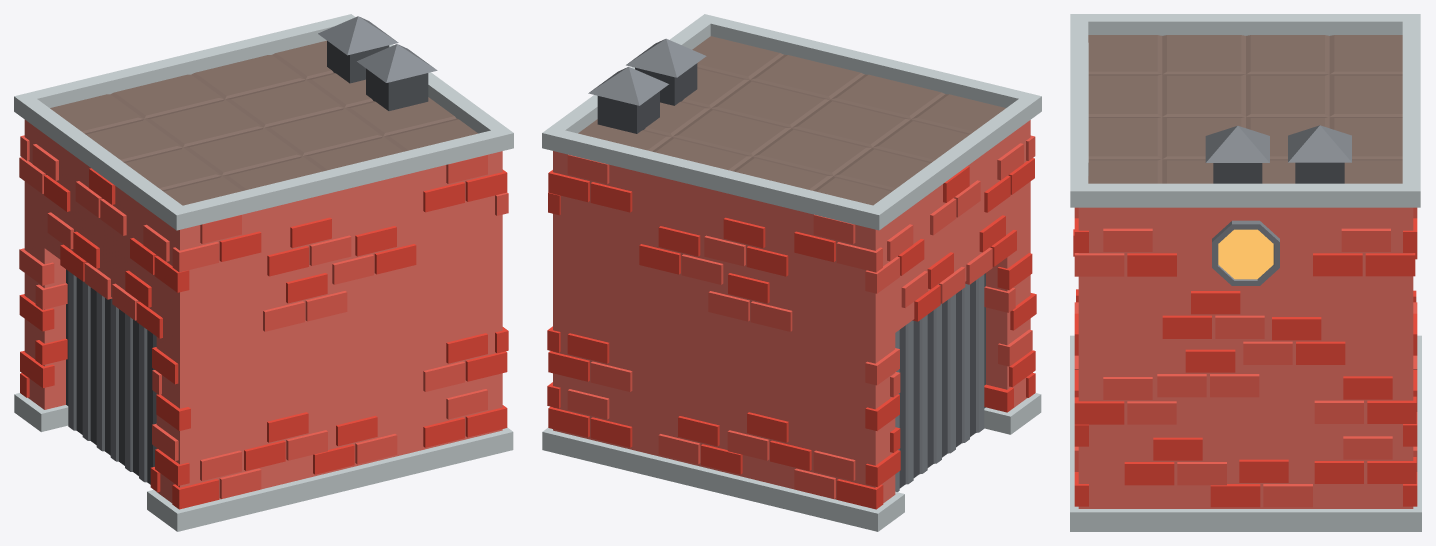
Rendered from SM_Garrage_3.fbx.
3 views of the same model, side by side, from view 1: azimuth 30°, elevation 25°; view 2: azimuth 150°, elevation 25°; view 3: azimuth 270°, elevation 25° (orthographic). The views are drawn at different scales.
Visible parts, largest first — view 1: SM_Garrage_3_LOD0; view 2: SM_Garrage_3_LOD0; view 3: SM_Garrage_3_LOD0.
Boxes of the visible parts, <box> form: SM_Garrage_3_LOD0: <box>14,14,513,531</box>; SM_Garrage_3_LOD0: <box>542,14,1041,531</box>; SM_Garrage_3_LOD0: <box>1070,14,1421,531</box>.
Bounding box in the file's own units: 439 × 368 × 446.
1 material, 1 textured.
